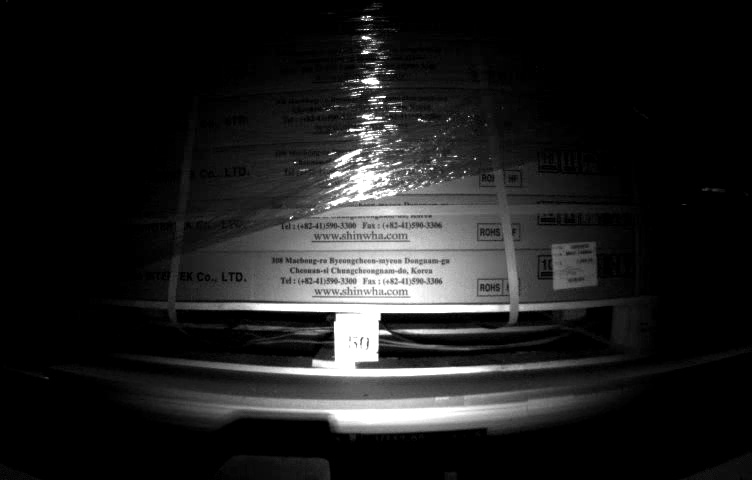True Barcode: (549, 240, 599, 287)
